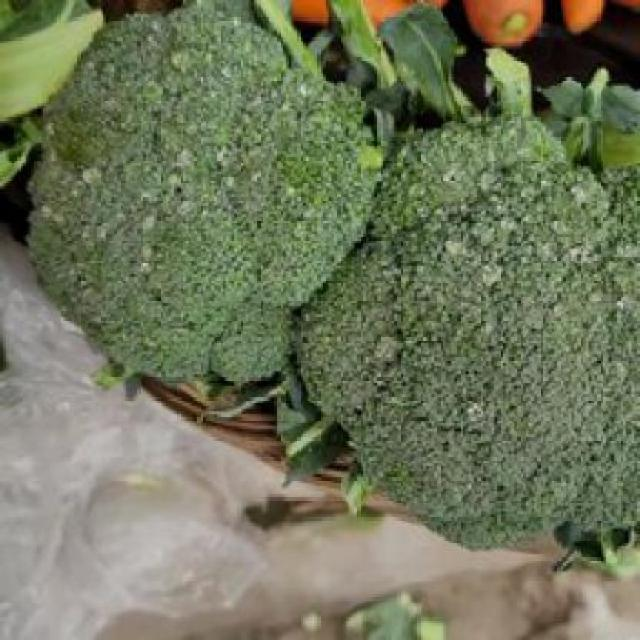broccoli: (17, 13, 383, 390), (343, 128, 637, 546)
